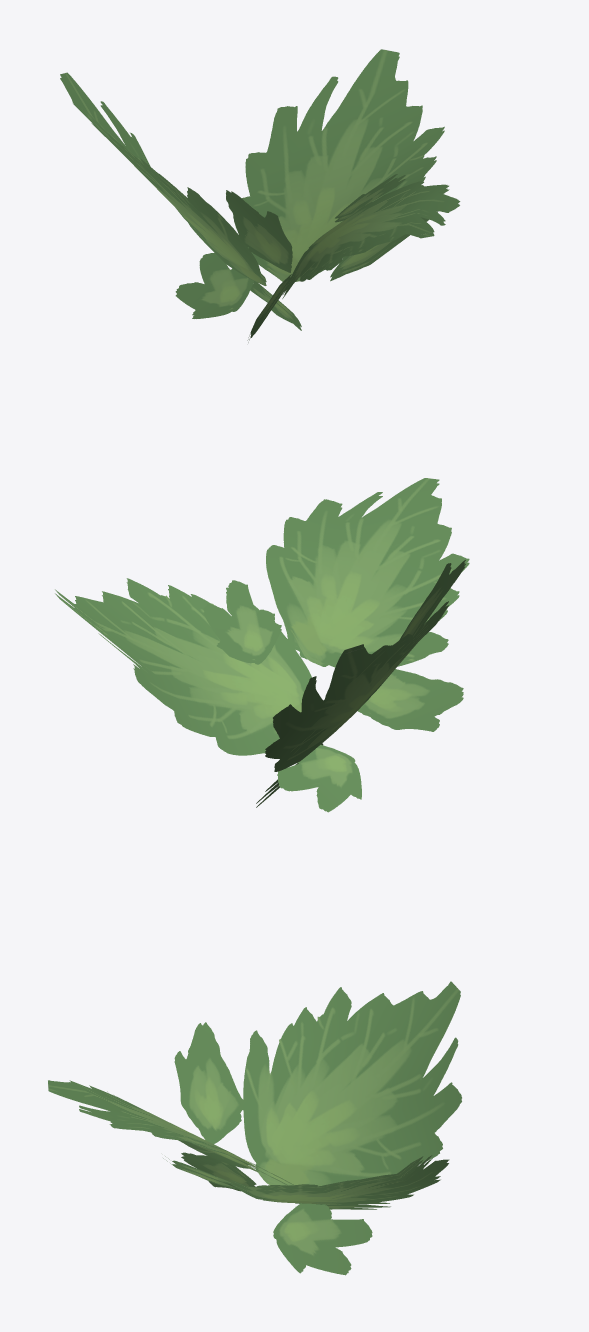
The model's file is leaves 1.fbx.
3 views of the same model, one above another, from view 1: azimuth 30°, elevation 25°; view 2: azimuth 150°, elevation 25°; view 3: azimuth 270°, elevation 25° (orthographic). The views are drawn at different scales.
Visible parts, largest first — view 1: leaves; view 2: leaves; view 3: leaves.
Part boxes in pixels (x1,y1,x2,y2): leaves: (60, 49, 460, 342); leaves: (55, 478, 469, 812); leaves: (48, 981, 461, 1275).
Size of the model in its own units: 1.95 by 1.32 by 2.04.
Materials: 1 (1 with a texture image).
